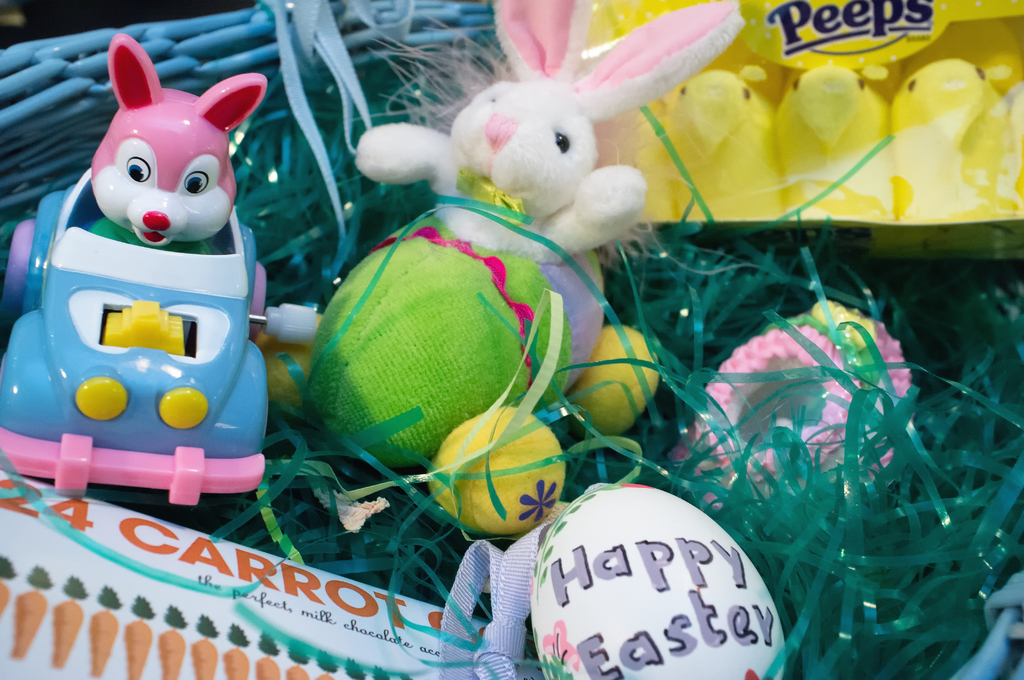Ball: (531, 482, 785, 679), (426, 406, 563, 534), (568, 325, 659, 440), (256, 334, 317, 410)
